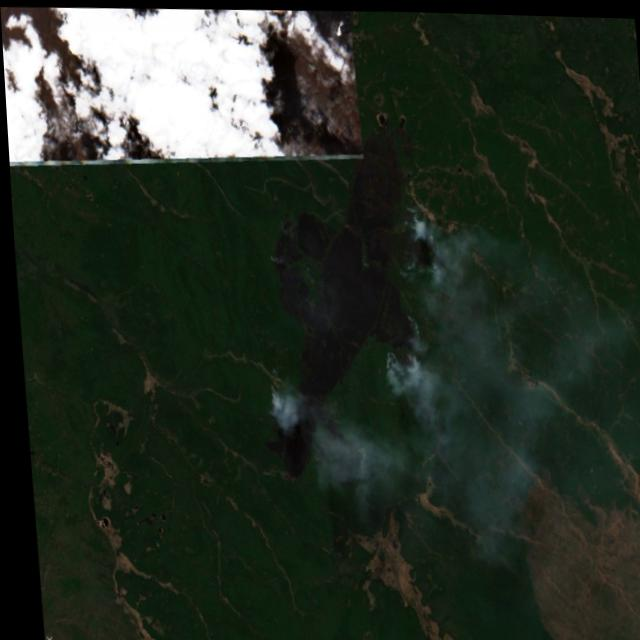fire: (374, 306, 421, 382), (253, 364, 290, 423), (396, 197, 426, 236)
